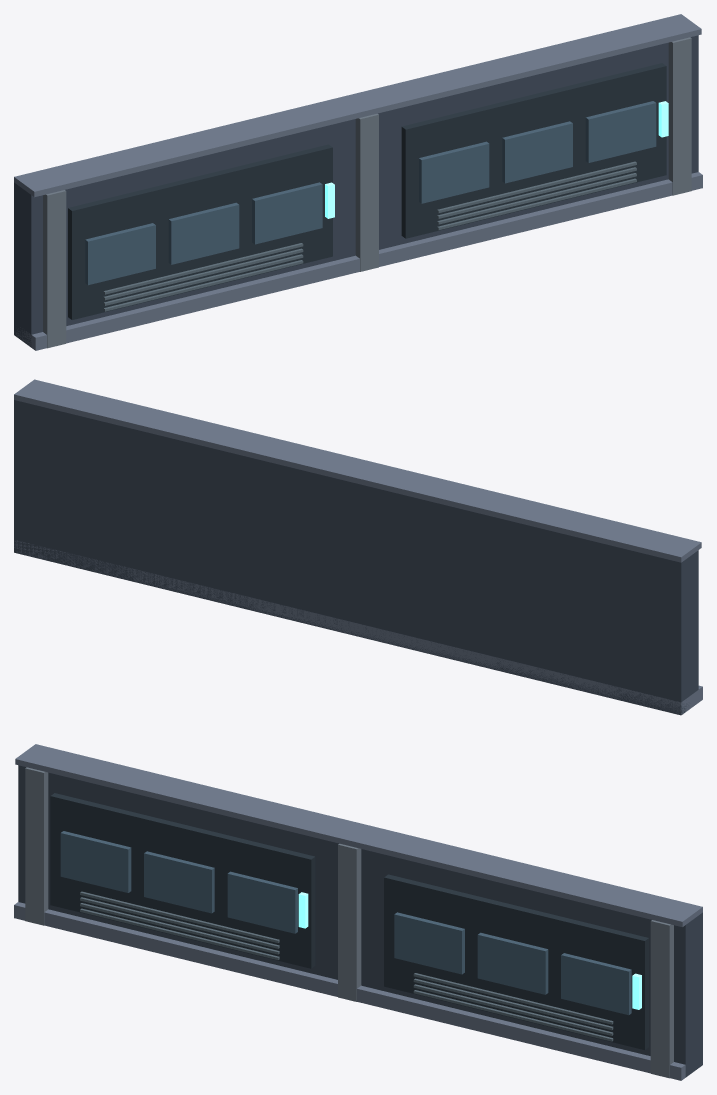
File: DS_WallB.glb
3 views of the same model, one above another, from view 1: azimuth 30°, elevation 25°; view 2: azimuth 150°, elevation 25°; view 3: azimuth 330°, elevation 25° (orthographic).
Visible parts, largest first — view 1: DS_WallB; view 2: DS_WallB; view 3: DS_WallB.
Boxes of the visible parts, box(x1,y1,x2,y2) form: DS_WallB: box(14, 14, 702, 350); DS_WallB: box(14, 379, 702, 715); DS_WallB: box(14, 744, 702, 1080).
Bounding box in the file's own units: 64 × 14.5 × 4.25.
Materials: 2 (2 with a texture image).
